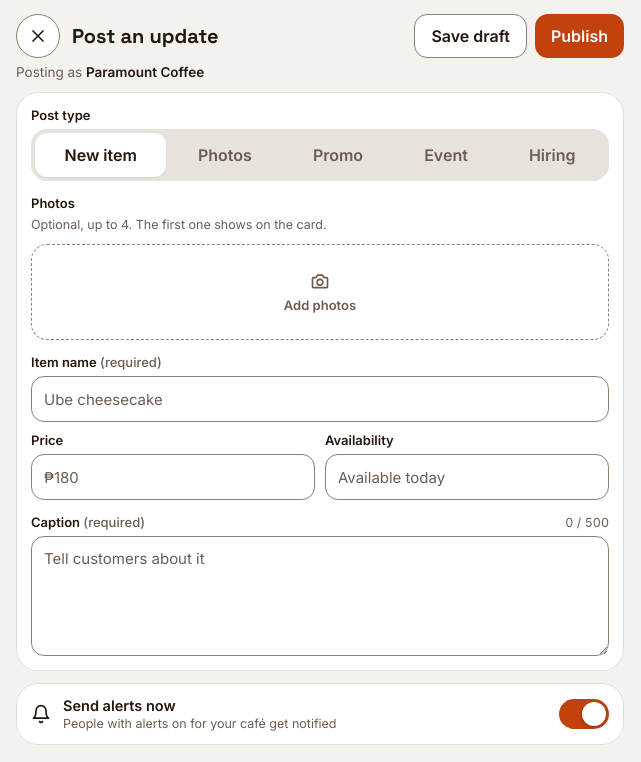
it: composer page › saves a draft without checks
The width and height of the screenshot is (641, 762).
Click the button "Save draft". click: click(471, 36)
box: left=414, top=14, right=527, bottom=58
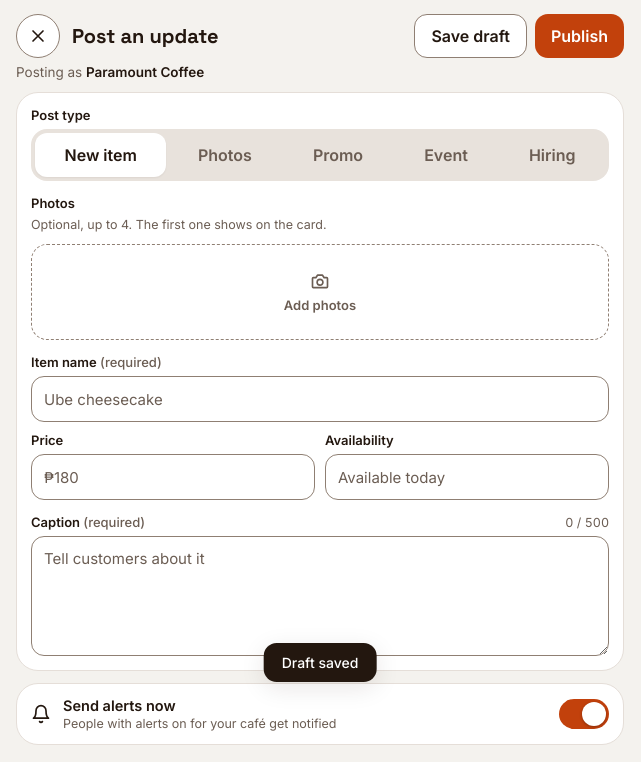
Now the message reads "Draft saved", box left=282, top=654, right=358, bottom=671
